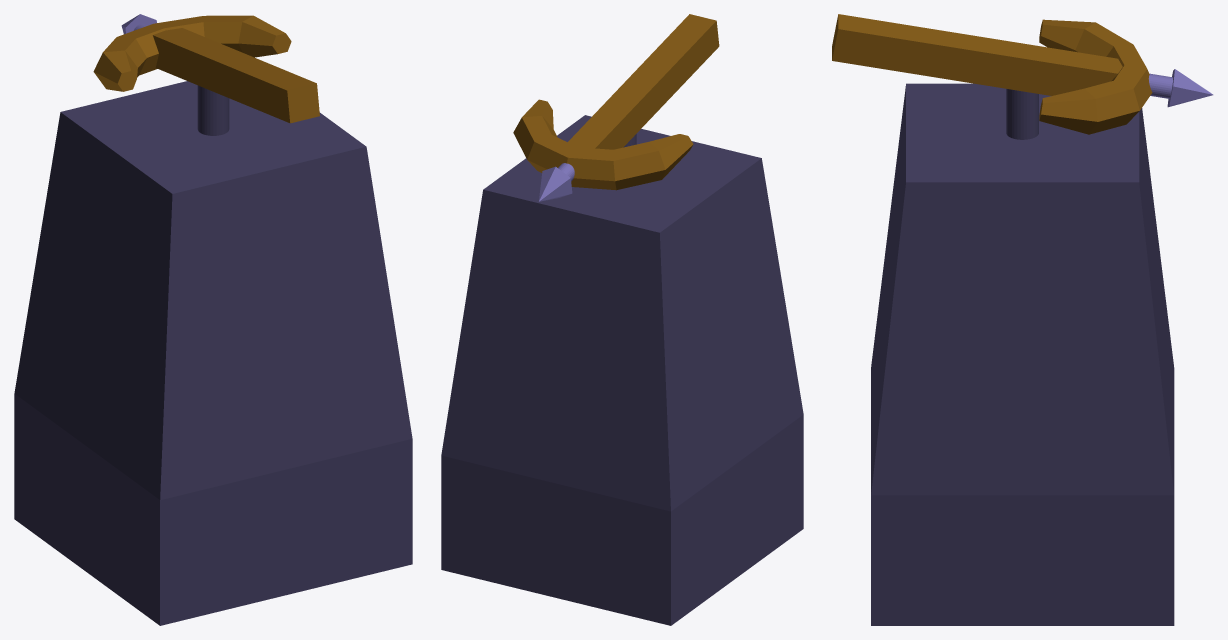
File: TowerСrossbow.fbx
The picture shows the model from 3 angles, left to right: view 1: azimuth 30°, elevation 25°; view 2: azimuth 150°, elevation 25°; view 3: azimuth 270°, elevation 25°; orthographic projection. The views are drawn at different scales.
Visible parts, largest first — view 1: Cylinder, arrow; view 2: Cylinder, arrow; view 3: Cylinder, arrow.
Boxes of the visible parts, <box> form: Cylinder: <box>14,81,412,625</box>; arrow: <box>93,14,319,123</box>; Cylinder: <box>441,115,803,625</box>; arrow: <box>513,14,719,201</box>; Cylinder: <box>871,83,1174,625</box>; arrow: <box>832,14,1213,134</box>.
Bounding box in the file's own units: 280 × 551 × 353.
